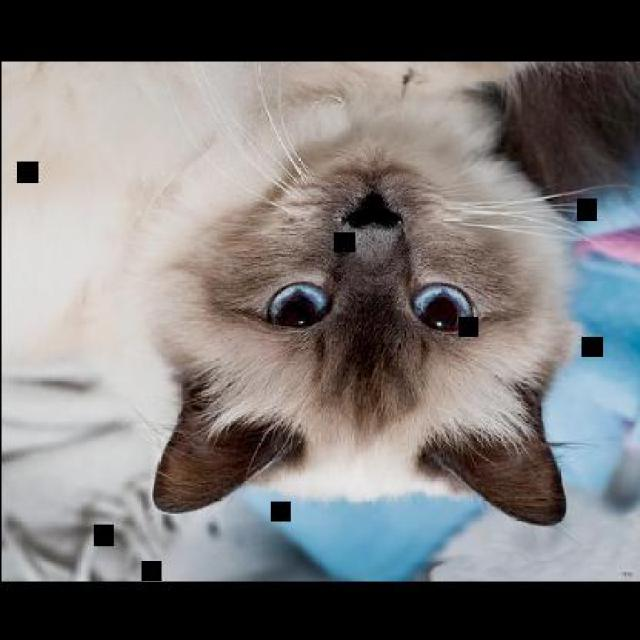unauthorized: (104, 60, 638, 528)
